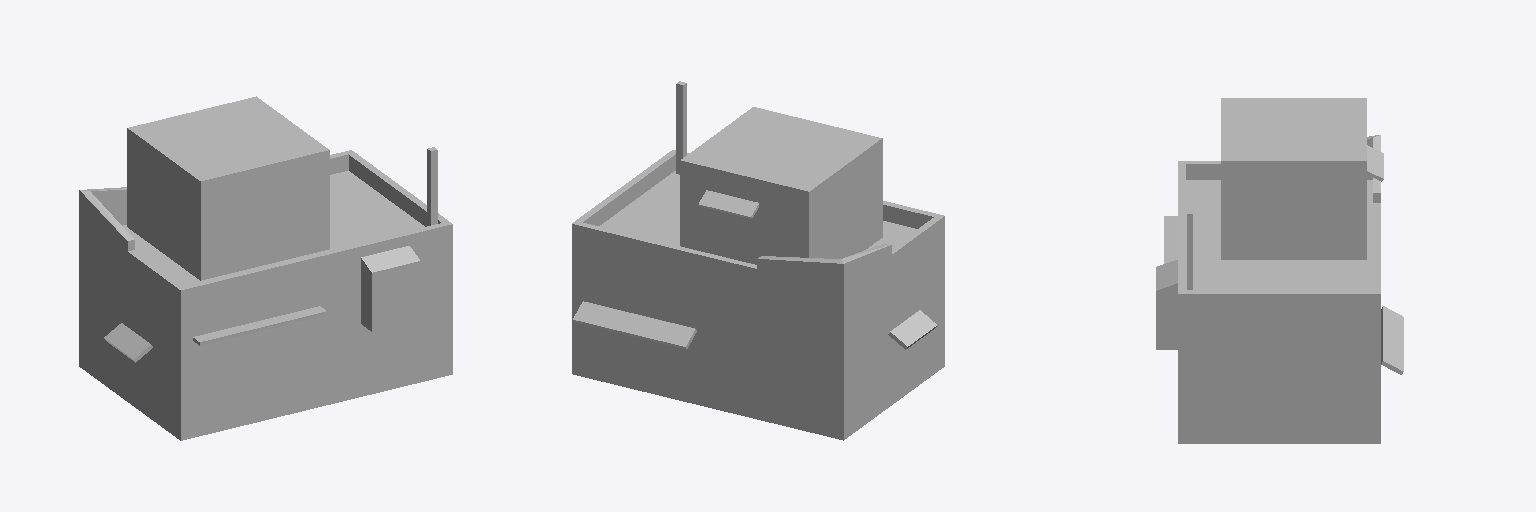
File: oriental_houses_03_LOD3.obj
3 views of the same model, side by side, from view 1: azimuth 30°, elevation 25°; view 2: azimuth 150°, elevation 25°; view 3: azimuth 270°, elevation 25° (orthographic).
Visible parts, largest first — view 1: oriental_houses_03_LOD3.obj; view 2: oriental_houses_03_LOD3.obj; view 3: oriental_houses_03_LOD3.obj.
Part boxes in pixels (left/top/right/bottom): oriental_houses_03_LOD3.obj: left=79, top=96, right=452, bottom=440; oriental_houses_03_LOD3.obj: left=572, top=81, right=944, bottom=440; oriental_houses_03_LOD3.obj: left=1156, top=98, right=1403, bottom=443.
Bounding box in the file's own units: 418 × 320 × 307.